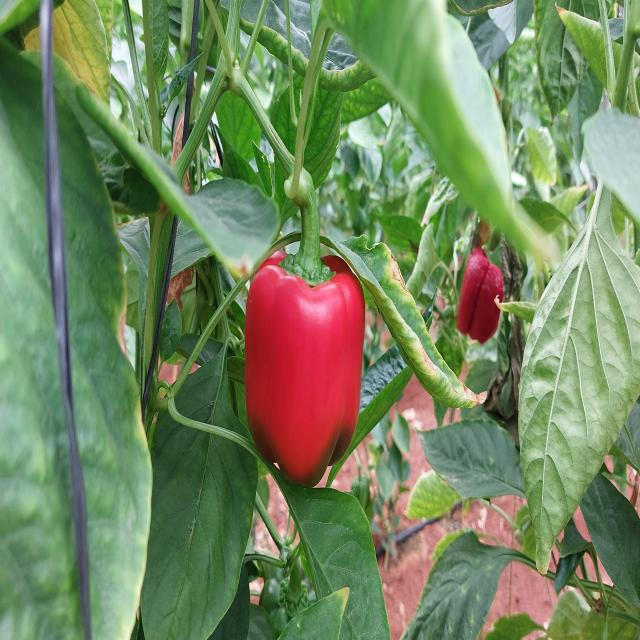Red-Ready-to-Harvest: (234, 251, 376, 501)
